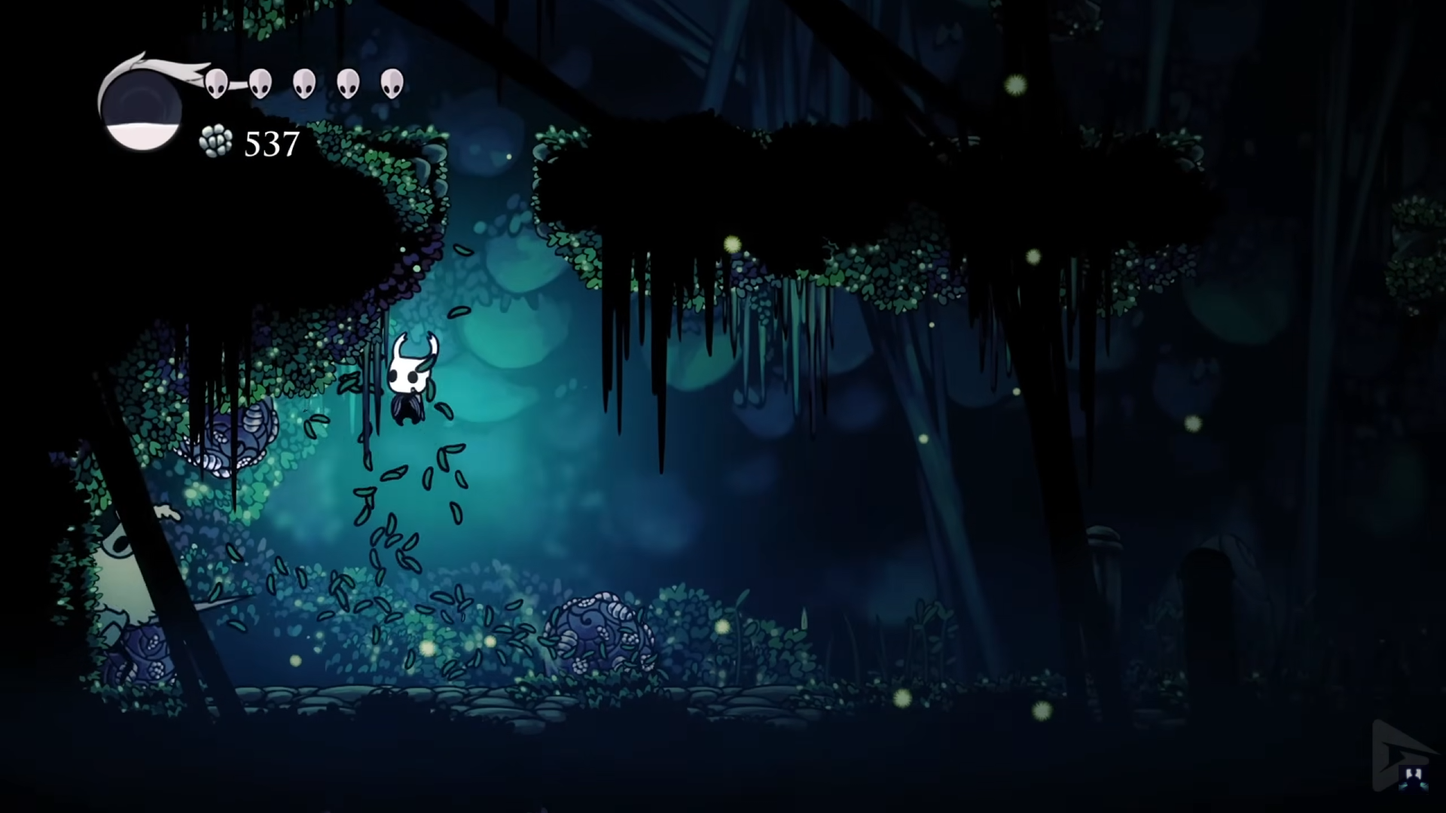HK: (378, 327, 444, 429)
